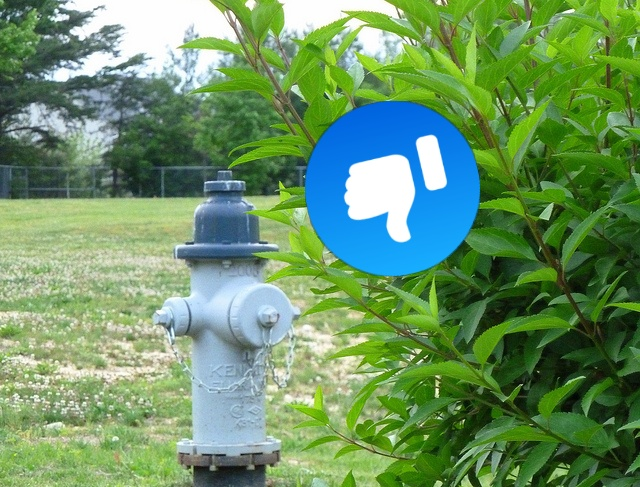like: (305, 101, 480, 276)
